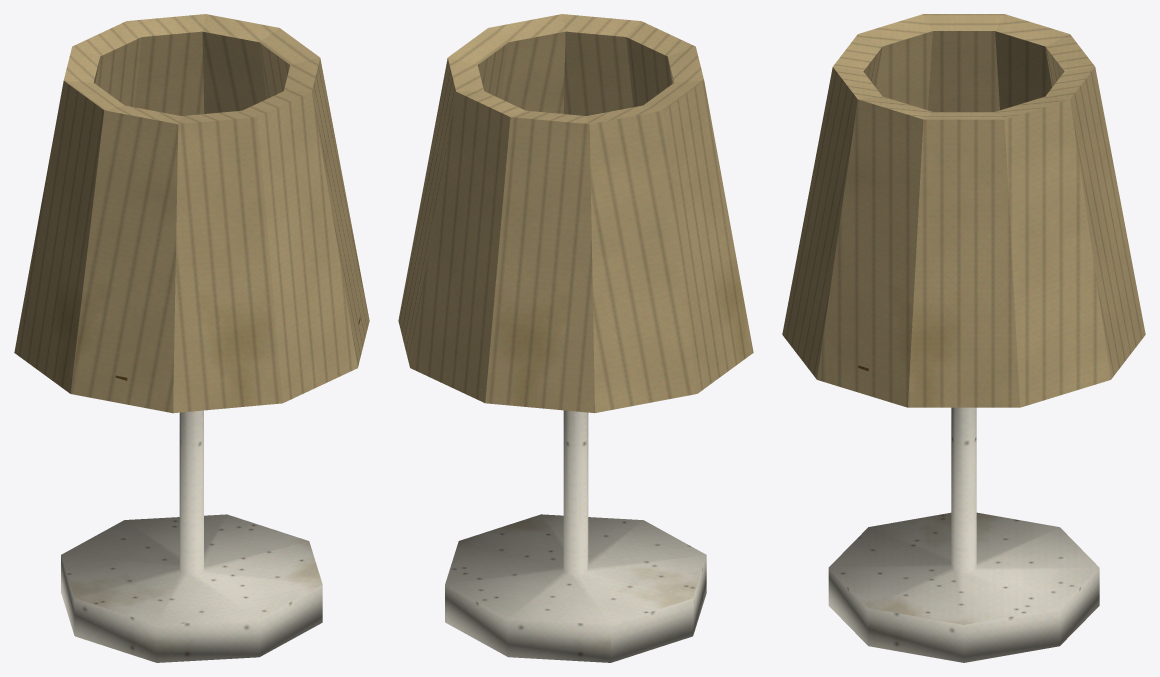
The model's file is TableLamp.fbx.
The picture shows the model from 3 angles, left to right: view 1: azimuth 30°, elevation 25°; view 2: azimuth 150°, elevation 25°; view 3: azimuth 270°, elevation 25°; orthographic projection.
Visible parts, largest first — view 1: TableLamp.001, TableLamp.005; view 2: TableLamp.001, TableLamp.005; view 3: TableLamp.001, TableLamp.005.
Boxes of the visible parts, x1,y1,x2,y2 form: TableLamp.001: (14, 14, 369, 413); TableLamp.005: (61, 410, 322, 662); TableLamp.001: (398, 14, 753, 412); TableLamp.005: (445, 410, 706, 662); TableLamp.001: (782, 14, 1145, 407); TableLamp.005: (828, 407, 1099, 662).
Size of the model in its own units: 0.3333 by 0.5736 by 0.3505.
Materials: 3 (3 with a texture image).
